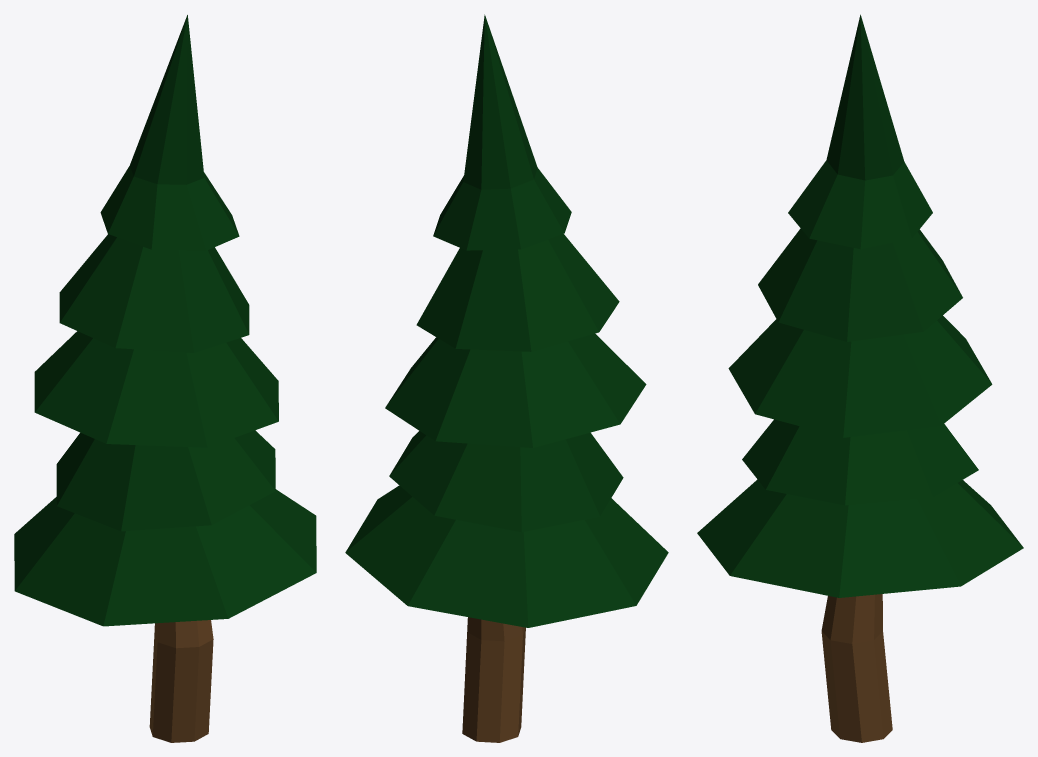
The model's file is treed3.glb.
3 views of the same model, side by side, from view 1: azimuth 30°, elevation 25°; view 2: azimuth 150°, elevation 25°; view 3: azimuth 270°, elevation 25° (orthographic).
Visible parts, largest first — view 1: Cone.025, Cylinder.027; view 2: Cone.025, Cylinder.027; view 3: Cone.025, Cylinder.027.
Boxes of the visible parts, bbox=[...] form: Cone.025: bbox=[14, 15, 316, 626]; Cylinder.027: bbox=[149, 620, 213, 742]; Cone.025: bbox=[345, 14, 668, 627]; Cylinder.027: bbox=[462, 617, 525, 742]; Cone.025: bbox=[697, 14, 1023, 597]; Cylinder.027: bbox=[821, 594, 892, 742].
Bounding box in the file's own units: 4.4 × 10.73 × 4.42.
